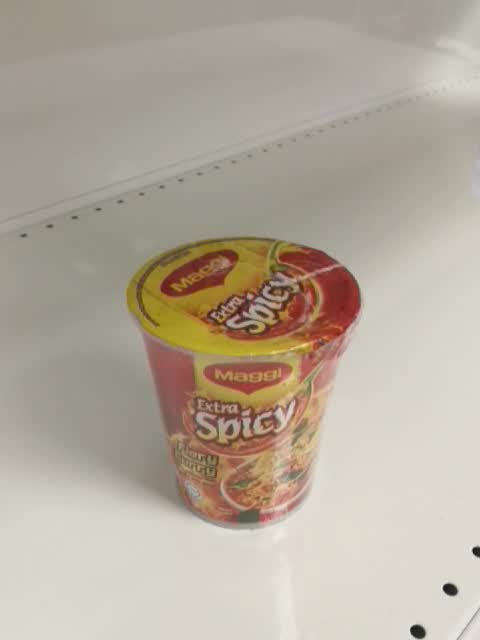maggi: (125, 235, 362, 532)
